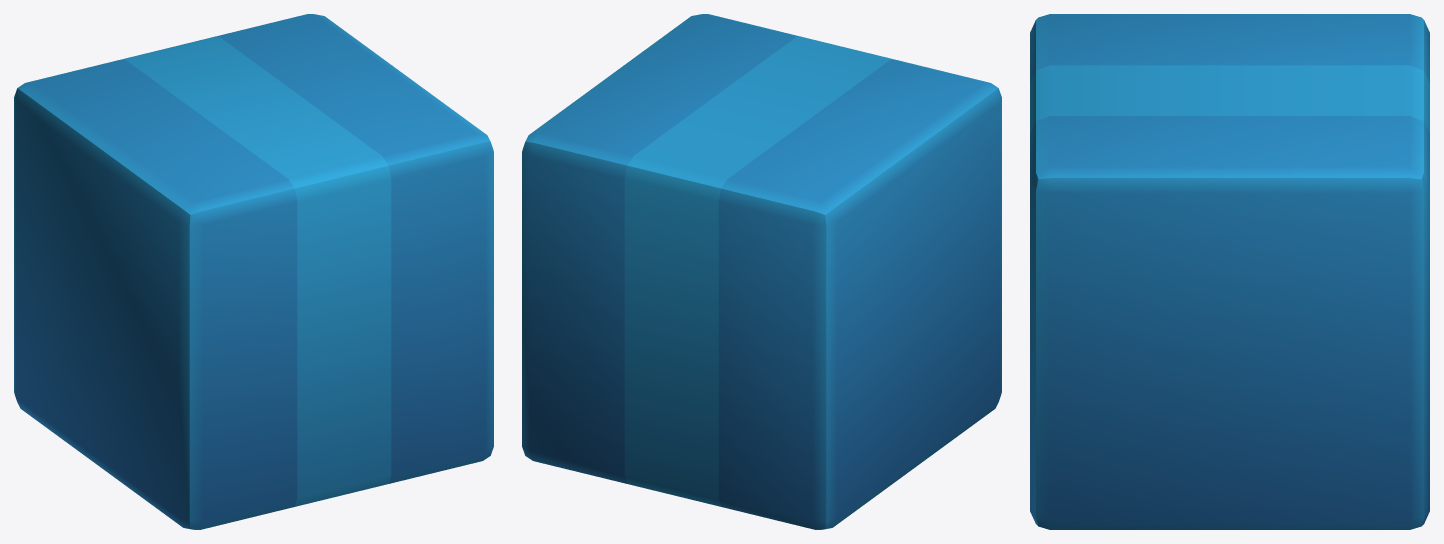
File: striped_block_blue.glb
3 views of the same model, side by side, from view 1: azimuth 30°, elevation 25°; view 2: azimuth 150°, elevation 25°; view 3: azimuth 270°, elevation 25° (orthographic). The views are drawn at different scales.
Visible parts, largest first — view 1: striped_block_blue; view 2: striped_block_blue; view 3: striped_block_blue.
Boxes of the visible parts, x1=… form: striped_block_blue: x1=14, y1=14, x2=493, y2=529; striped_block_blue: x1=522, y1=14, x2=1001, y2=529; striped_block_blue: x1=1030, y1=14, x2=1429, y2=529.
Bounding box in the file's own units: 2 × 2 × 2.
Materials: 1 (1 with a texture image).
